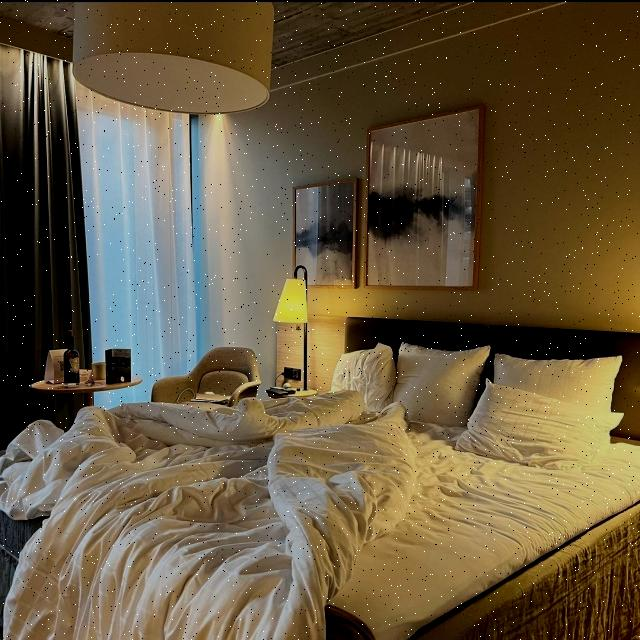bed: (0, 336, 638, 639)
